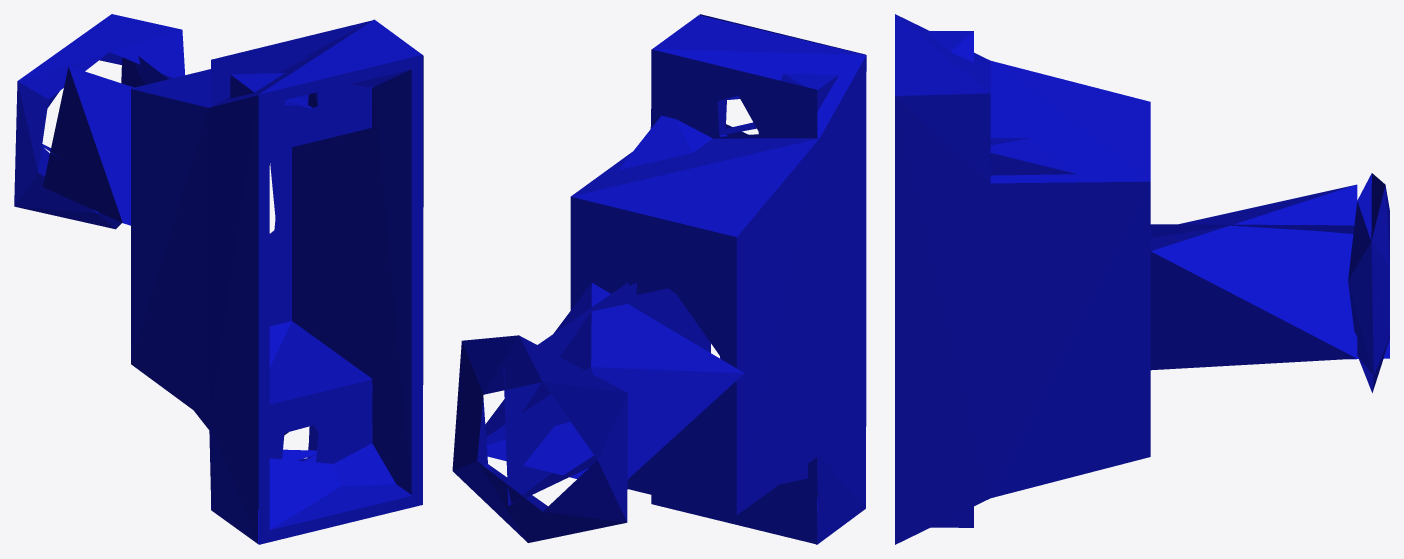
Rendered from rear_right_steer_125.dae.
3 views of the same model, side by side, from view 1: azimuth 30°, elevation 25°; view 2: azimuth 150°, elevation 25°; view 3: azimuth 270°, elevation 25° (orthographic).
Visible parts, largest first — view 1: node; view 2: node; view 3: node.
Boxes of the visible parts, <box> form: node: <box>14,14,423,544</box>; node: <box>452,14,866,544</box>; node: <box>895,14,1389,544</box>.
Bounding box in the file's own units: 0.0096 × 0.0231 × 0.0233.
